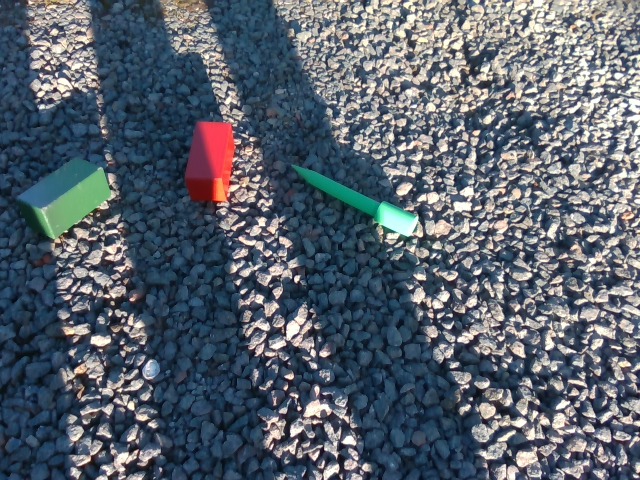Probe: (287, 157, 431, 236)
